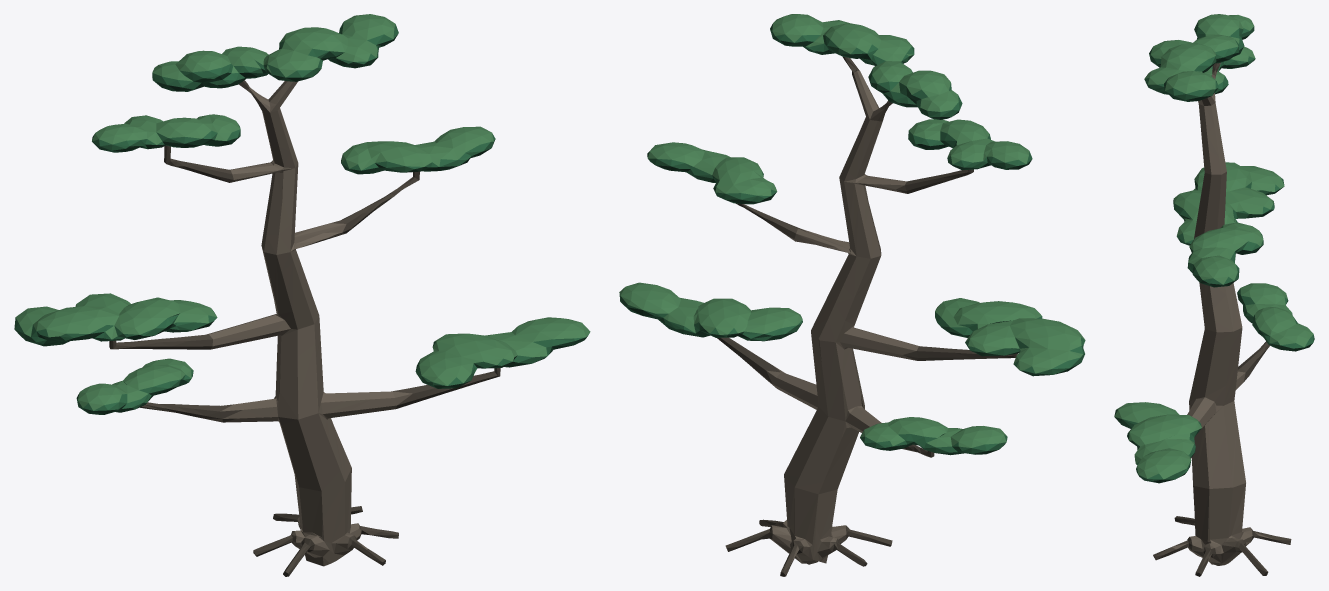
Rendered from ancient-pine-3020-lod0.glb.
3 renders of one model, left to right at view 1: azimuth 30°, elevation 25°; view 2: azimuth 150°, elevation 25°; view 3: azimuth 270°, elevation 25°, orthographic. The views are drawn at different scales.
Parts seen in each view (by area): view 1: n12.004, n8.004, n11.004, n9.004, n10.004; view 2: n12.004, n8.004, n11.004, n9.004, n10.004; view 3: n12.004, n8.004, n11.004, n9.004, n10.004.
Boxes of the visible parts, left/top/right/bottom form: n12.004: left=15, top=14, right=590, bottom=410; n8.004: left=203, top=81, right=412, bottom=566; n11.004: left=14, top=22, right=589, bottom=410; n9.004: left=109, top=80, right=500, bottom=576; n10.004: left=15, top=34, right=587, bottom=414; n12.004: left=619, top=14, right=1084, bottom=447; n8.004: left=766, top=71, right=919, bottom=564; n11.004: left=619, top=24, right=1085, bottom=453; n9.004: left=717, top=57, right=1017, bottom=576; n10.004: left=624, top=36, right=1080, bottom=455; n12.004: left=1114, top=14, right=1313, bottom=479; n8.004: left=1172, top=70, right=1273, bottom=565; n11.004: left=1114, top=21, right=1314, bottom=480; n9.004: left=1153, top=62, right=1291, bottom=576; n10.004: left=1122, top=30, right=1312, bottom=483.
Size of the model in its own units: 5.39 by 5.43 by 1.97.
